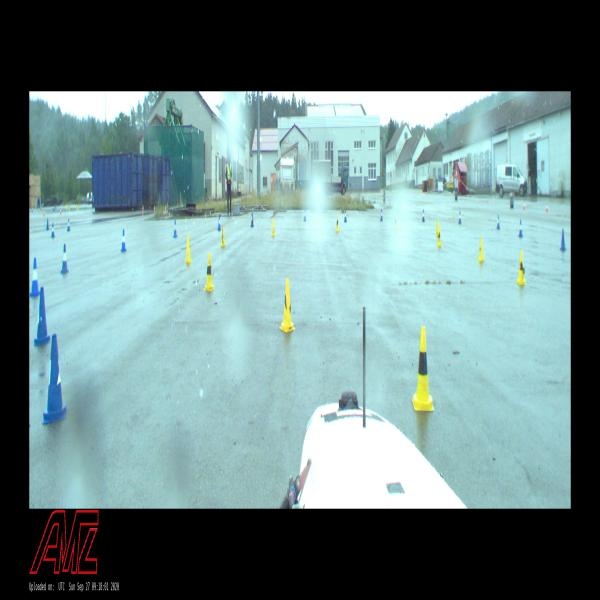blue_cone: (42, 335, 68, 424), (34, 288, 50, 345), (29, 258, 40, 296), (61, 244, 68, 273), (121, 230, 126, 251), (560, 230, 565, 251), (173, 220, 178, 237), (217, 214, 222, 229), (519, 220, 523, 237), (250, 213, 254, 227), (497, 214, 500, 229), (51, 223, 54, 237), (458, 210, 461, 224), (67, 218, 70, 231), (422, 209, 425, 222), (344, 210, 347, 222), (380, 209, 383, 220), (46, 219, 49, 230), (304, 209, 306, 220)
orange_cone: (546, 202, 548, 212), (142, 205, 144, 212), (60, 208, 62, 215), (43, 209, 45, 216), (164, 205, 166, 212), (524, 202, 525, 210), (154, 205, 155, 212)
yellow_cone: (412, 328, 434, 412), (279, 278, 294, 332), (204, 253, 215, 291), (517, 251, 525, 284), (185, 235, 192, 263), (477, 236, 484, 261), (436, 226, 442, 247), (220, 225, 225, 247), (272, 219, 276, 236), (436, 218, 439, 235), (336, 216, 339, 231), (394, 216, 397, 229)
